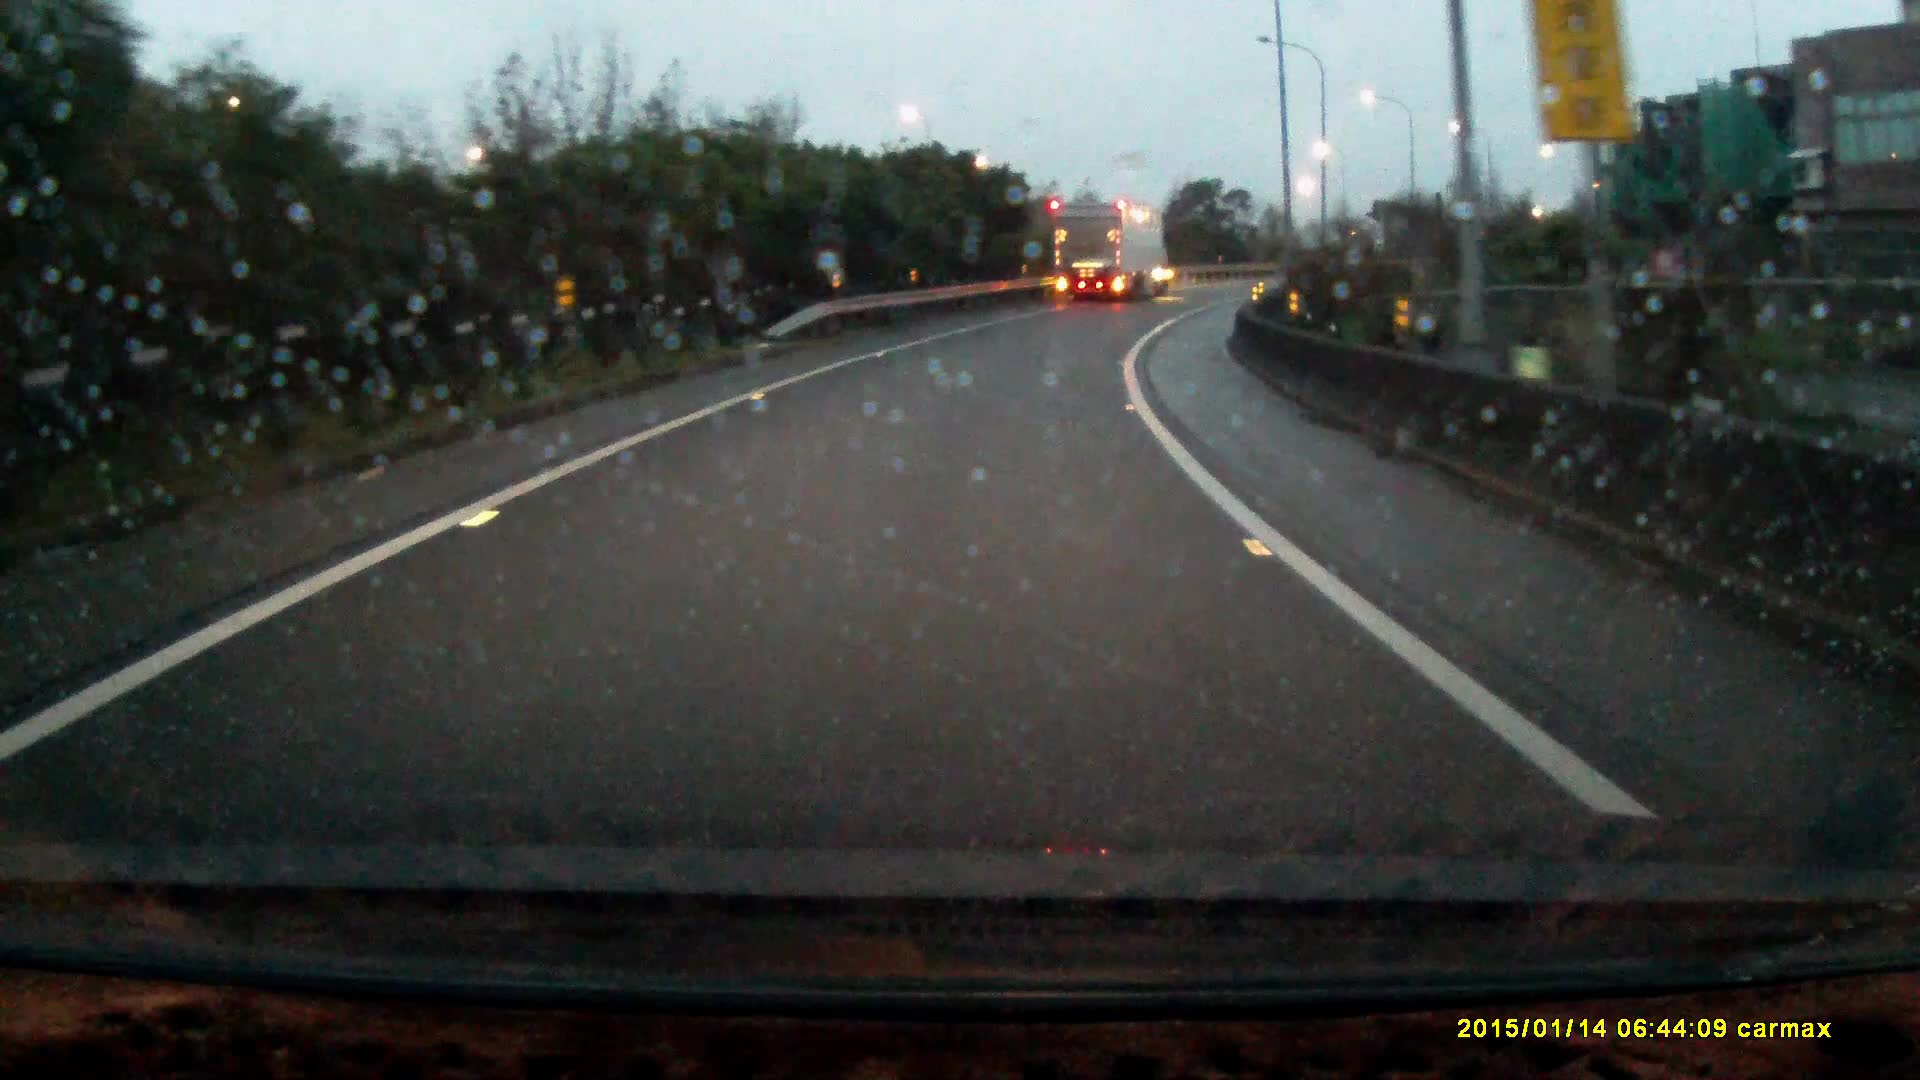vehicle: (1055, 196, 1179, 301)
